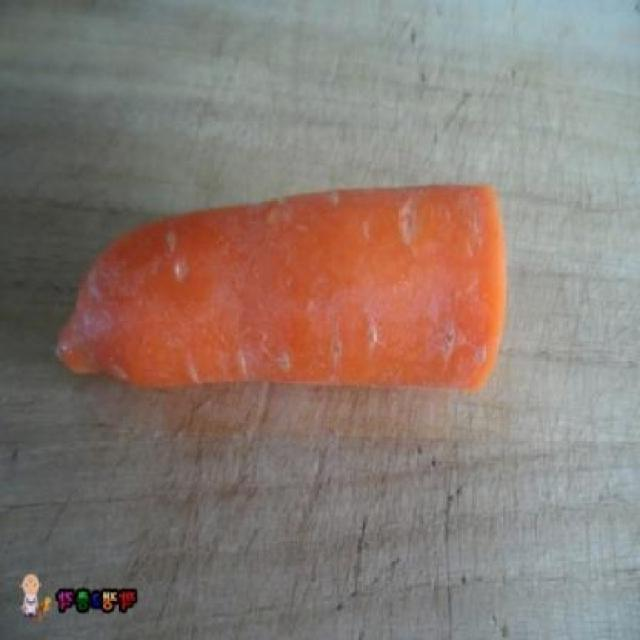Carrot: (58, 185, 506, 388)
